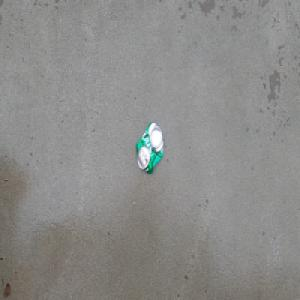SodaCan: (135, 120, 165, 176)
